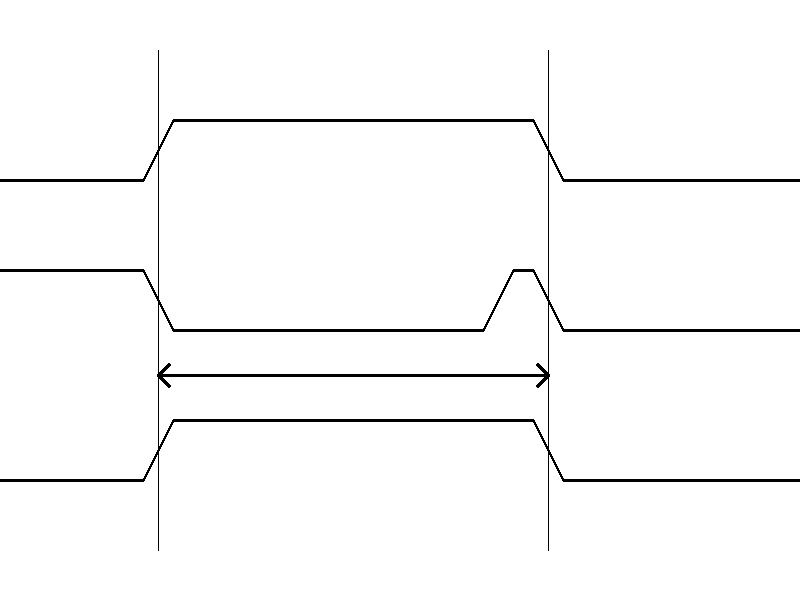double_arrow: (158, 360, 548, 390)
